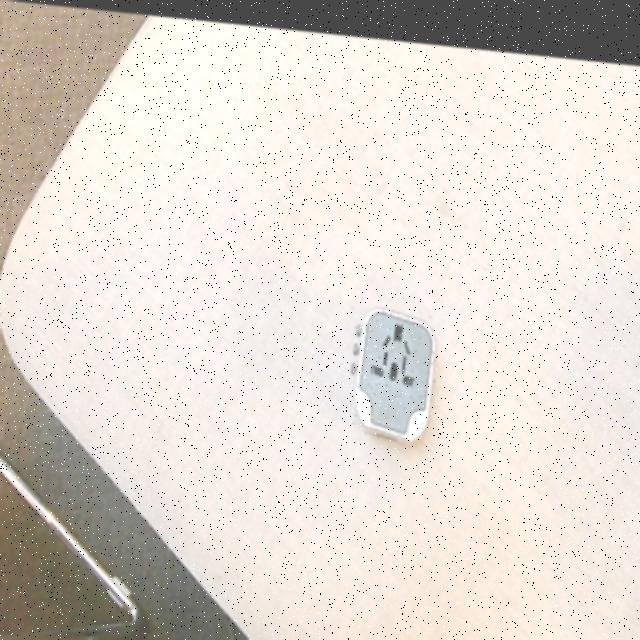adapter: (350, 295, 436, 435)
